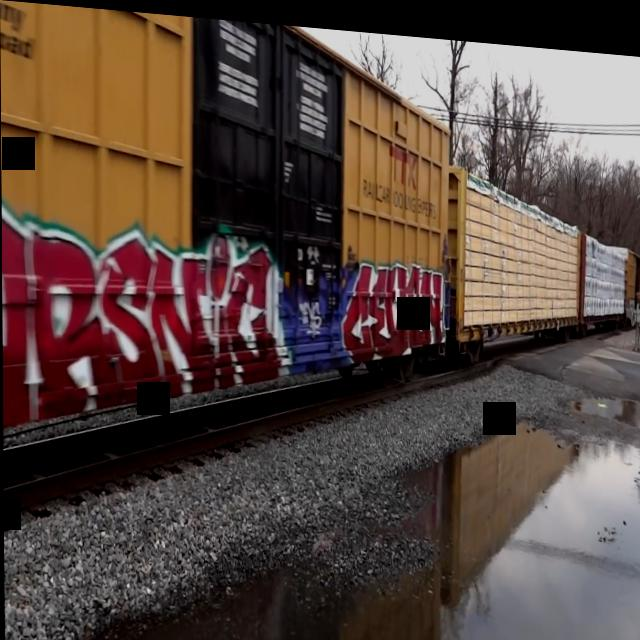boxcar: (0, 0, 466, 480)
cargo: (581, 219, 628, 320)
flatcar_bulkhead: (446, 147, 580, 367)
